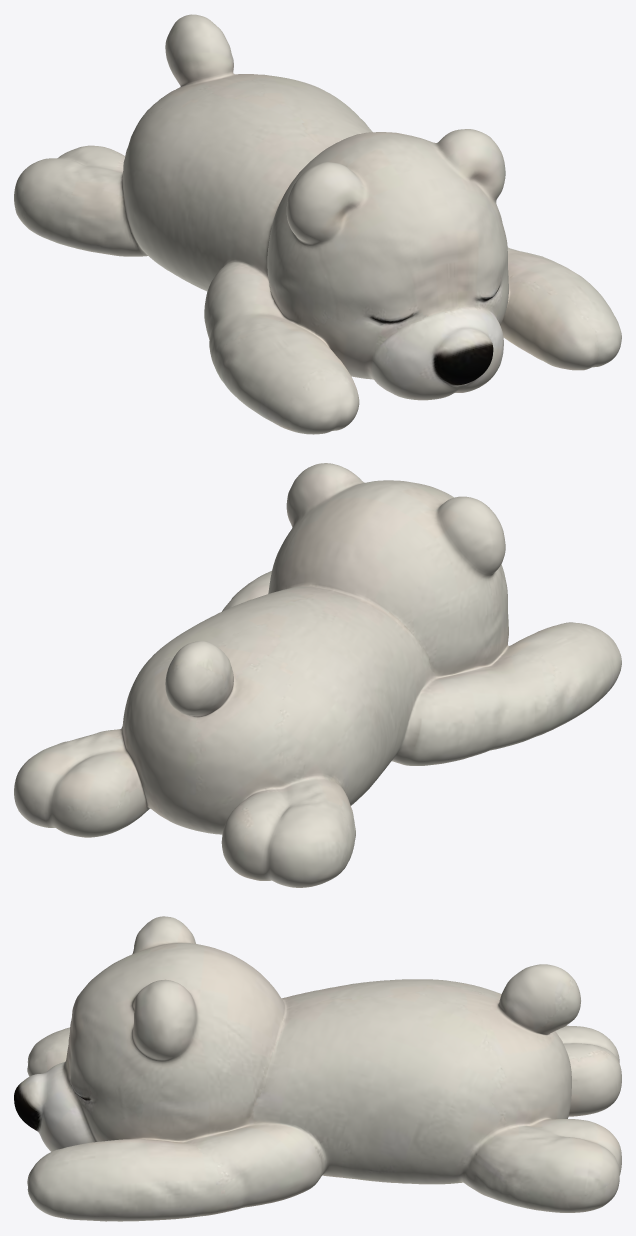
File: bbak.glb
3 views of the same model, one above another, from view 1: azimuth 30°, elevation 25°; view 2: azimuth 150°, elevation 25°; view 3: azimuth 270°, elevation 25° (orthographic). The views are drawn at different scales.
Visible parts, largest first — view 1: bbak; view 2: bbak; view 3: bbak.
Boxes of the visible parts, box(x1,y1,x2,y2) form: bbak: box(14, 14, 621, 434); bbak: box(14, 463, 621, 887); bbak: box(14, 916, 621, 1221).
Bounding box in the file's own units: 1.28 × 0.7145 × 2.
1 material, 1 textured.
